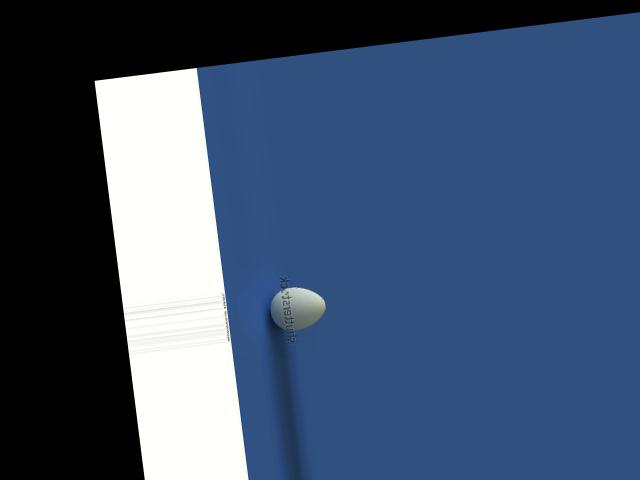egg: (267, 283, 328, 333)
